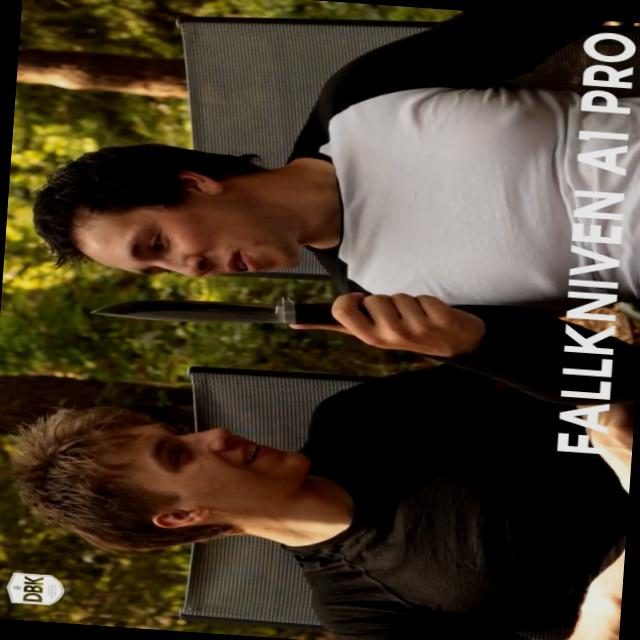knife: (76, 264, 438, 349)
